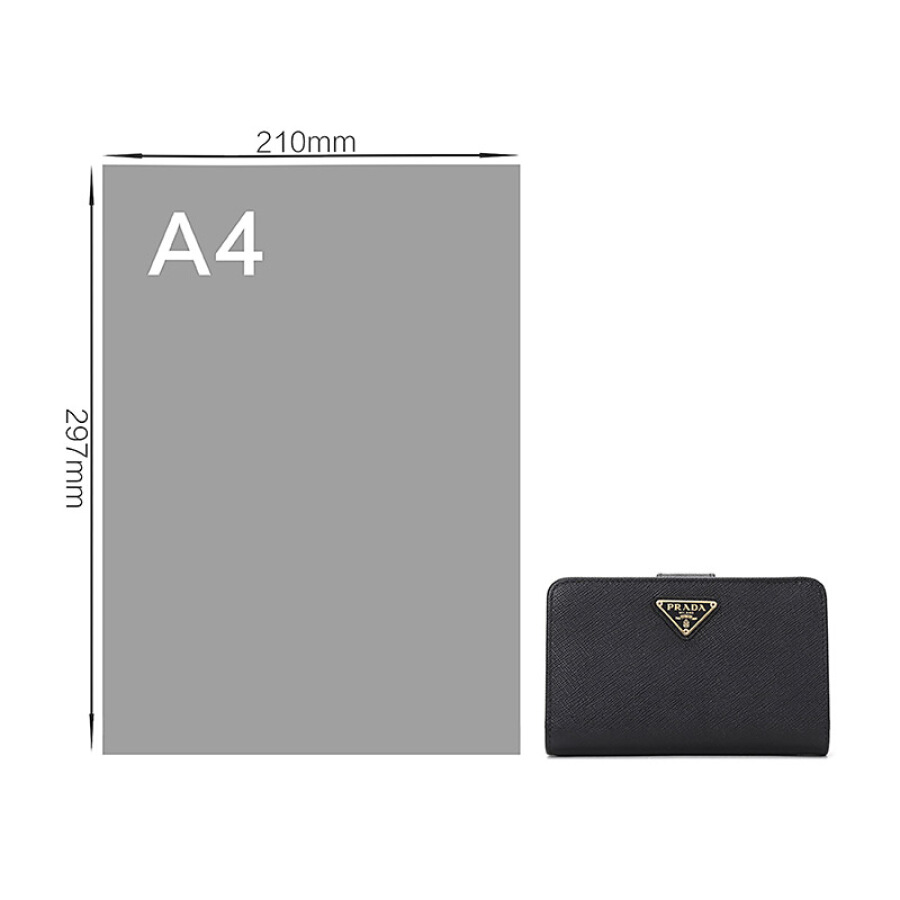Prada: (653, 592, 712, 613)
